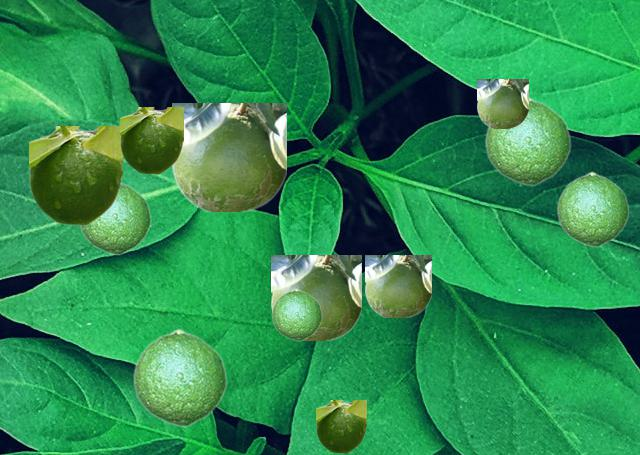dalandan: (172, 103, 285, 210), (132, 328, 226, 426), (29, 126, 121, 224), (484, 96, 570, 185), (271, 255, 360, 339), (556, 171, 628, 246), (79, 182, 150, 254), (120, 107, 182, 173), (365, 255, 430, 316), (271, 288, 321, 340), (316, 400, 365, 452), (477, 79, 527, 127)
